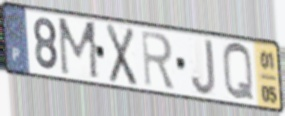8: (32, 16, 60, 73)
J: (190, 37, 218, 97)
M: (56, 16, 101, 83)
Q: (221, 40, 257, 104)
R: (139, 28, 177, 92)
X: (105, 21, 139, 89)
